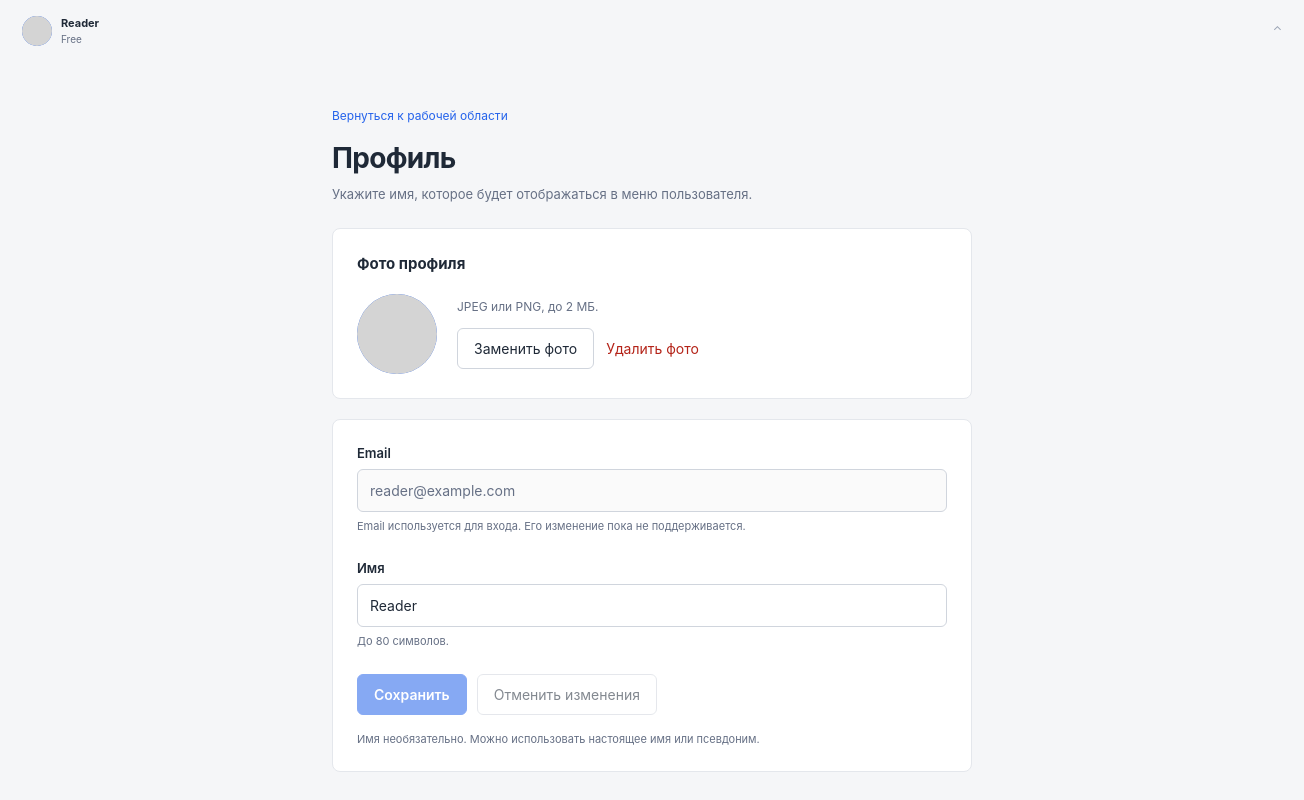
Test: profile avatar UI › preserves the photo on a failed delete
Step 1. Click the button "Удалить фото" → (653, 348), box [606,330,699,367]
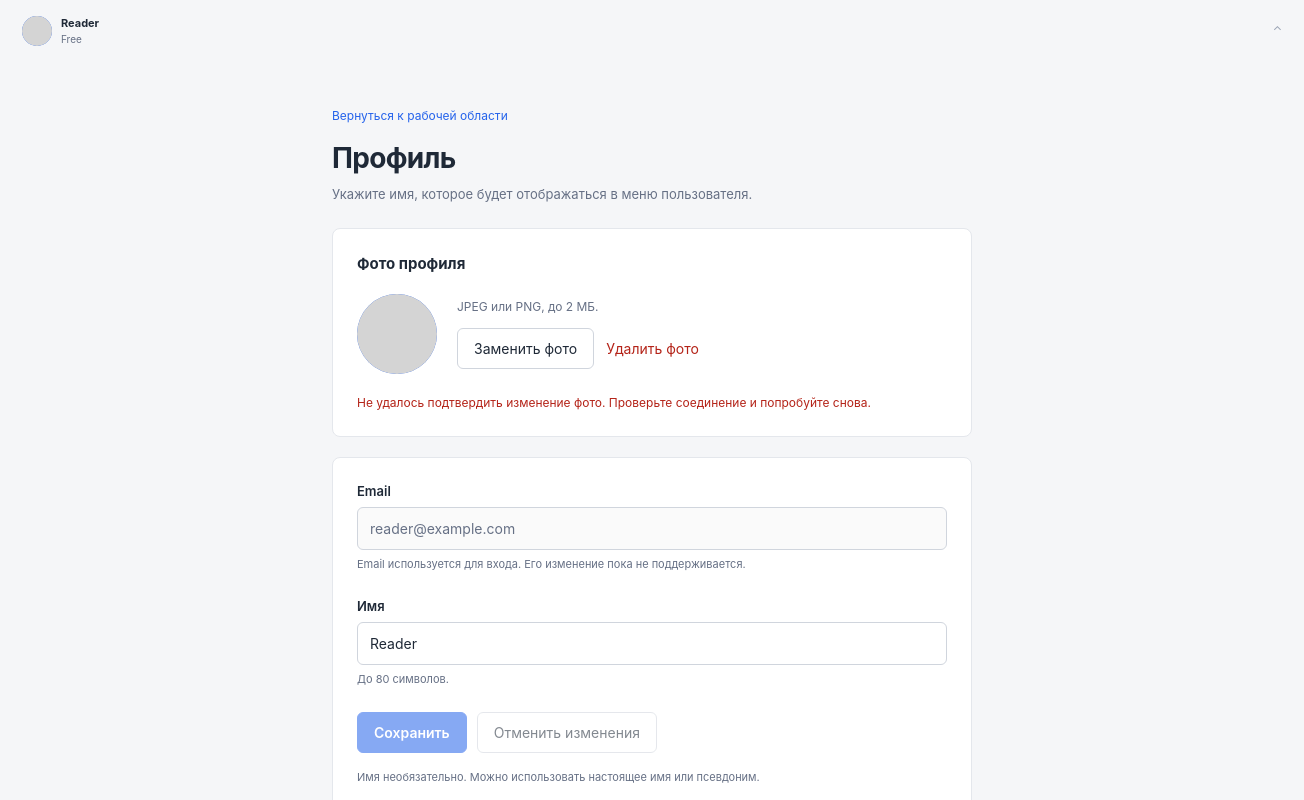
Check: the message is shown, box [357,394,947,412]
